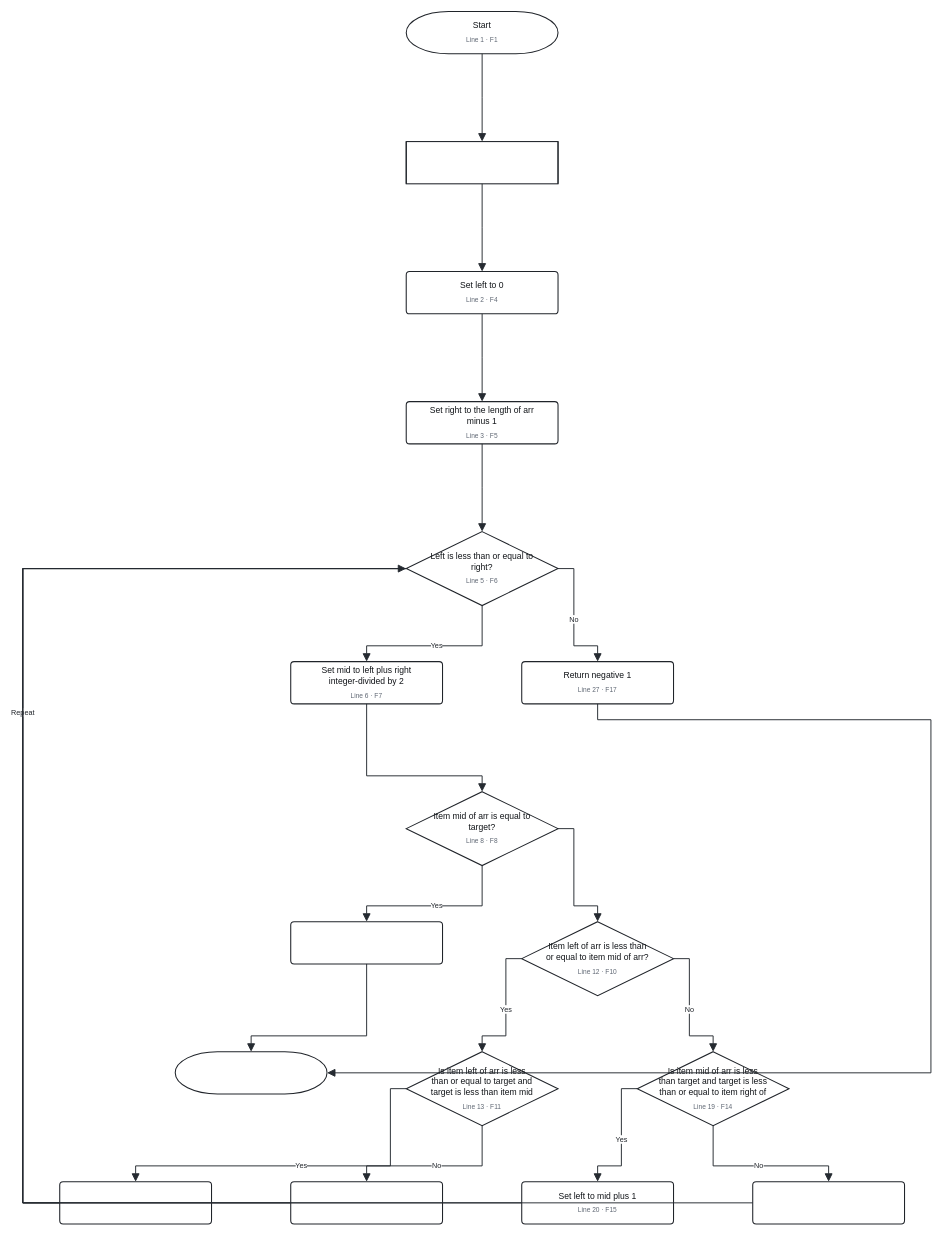
The diagram is 950 pixels wide and 1236 high, and some of its shapes have lost their labels. Here are the shapes that lost their labels. From the top down, the centre of each, then its label:
pixel 481 162: Run function unnamed_function with arr, target Line 1 · F3
pixel 366 942: Return mid Line 9 · F9
pixel 250 1072: End Line 1 · F2
pixel 135 1202: Set right to mid minus 1 Line 14 · F12
pixel 366 1202: Set left to mid plus 1 Line 16 · F13
pixel 828 1202: Set right to mid minus 1 Line 22 · F16
